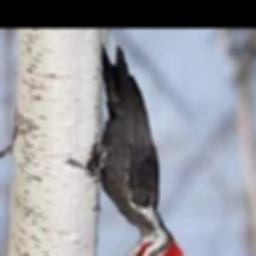Woodpecker: (91, 42, 184, 256)
